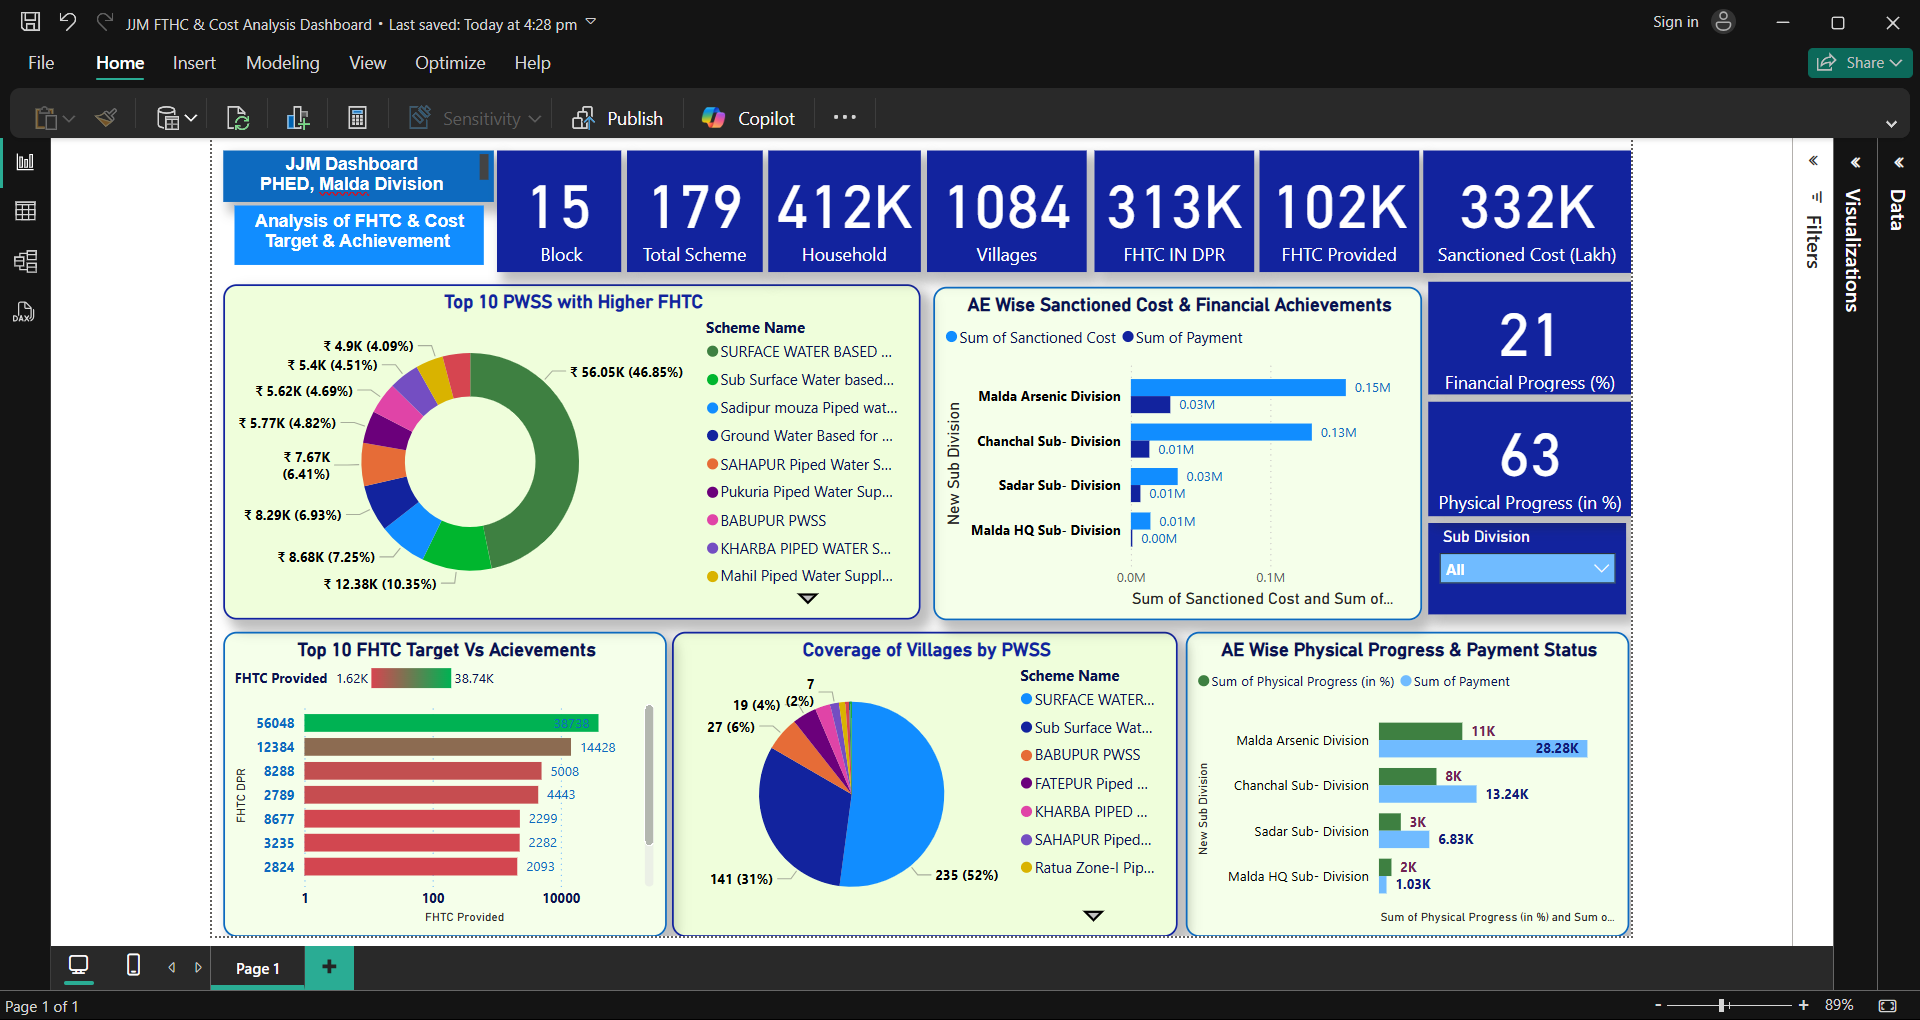

The page's visual inventory and layout, read from the dashboard file:
{"tool":"powerbi","page":{"name":"Page 1","canvas":[1280,720],"ordinal":0},"visuals":[{"type":"donutChart","title":"Top 10 PWSS with Higher FHTC","fields":{"Category":["Sheet1 (2).Scheme Name"],"Y":["Max(Sheet1 (2).FHTC DPR)"]},"box":[10.3,132.4,628.6,302.1],"z":0},{"type":"barChart","title":"Top 10 FHTC Target Vs Acievements","fields":{"Category":["Sheet1 (2).FHTC DPR"],"Y":["Sum(Sheet1 (2).FHTC Provided)"]},"box":[10.3,444.7,399.8,275.1],"z":1000},{"type":"pieChart","title":"Coverage of Villages by PWSS","fields":{"Category":["Sheet1.Scheme Name"],"Y":["Sum(Sheet1 (2).Villages)"]},"box":[415.2,444.7,456.3,275.1],"z":2000},{"type":"textbox","box":[10,11.2,243.8,46],"z":3000},{"type":"card","fields":{"Values":["Count(Sheet1 (2).Block)"]},"box":[257.1,11.6,111.8,109.3],"z":4000},{"type":"card","fields":{"Values":["Count(Sheet1.Scheme Name)"]},"box":[374.1,11.6,122.1,109.3],"z":5000},{"type":"card","fields":{"Values":["Sum(Sheet1 (2).Household)"]},"box":[501.3,11.6,137.5,109.3],"z":6000},{"type":"card","fields":{"Values":["Sum(Sheet1 (2).Villages)"]},"box":[645.3,11.6,144,109.3],"z":7000},{"type":"card","fields":{"Values":["Sum(Sheet1 (2).FHTC DPR)"]},"box":[795.7,11.6,144,109.3],"z":8000},{"type":"card","fields":{"Values":["Sum(Sheet1 (2).FHTC Provided)"]},"box":[944.8,11.6,144,109.3],"z":9000},{"type":"clusteredBarChart","title":"AE Wise Sanctioned Cost & Financial Achievements","fields":{"Y":["Sum(G1- Scheme Physical Progress (R.Sanctioned Cost)","Sum(G1- Scheme Physical Progress (R.Payment)"],"Category":["G1- Scheme Physical Progress (R.New Sub Division"]},"box":[650.4,133.7,440.9,300.8],"z":10000},{"type":"slicer","fields":{"Values":["G1- Scheme Physical Progress (R.New Sub Division"]},"box":[1096.4,347.1,178.7,82.3],"z":11000},{"type":"card","fields":{"Values":["Sum(G1- Scheme Physical Progress (R.Sanctioned Cost)"]},"box":[1092.3,11.6,187.7,110.5],"z":12000},{"type":"card","fields":{"Values":["Avg(G1- Scheme Physical Progress (R.Financial Progress (in %))"]},"box":[1096.4,129.8,183.8,101.5],"z":13000},{"type":"card","fields":{"Values":["Avg(G1- Scheme Physical Progress (R.Physical Progress (in %))"]},"box":[1096.4,237.8,183.8,102.8],"z":14000},{"type":"clusteredBarChart","title":"AE Wise Physical Progress & Payment Status","fields":{"Category":["G1- Scheme Physical Progress (R.New Sub Division"],"Y":["Sum(G1- Scheme Physical Progress (R.Physical Progress (in %))","Sum(G1- Scheme Physical Progress (R.Payment)"]},"box":[877.9,444.7,399.8,275.1],"z":14001},{"type":"textbox","box":[19.9,61,225.2,53.5],"z":14002}]}

Visuals, with their boxes on the page's 1280x720 design canvas (x1, y1, x2, y2). These are canvas units, not pixel positions in the 1920x1020 screenshot, which may show the page scaled, cropped or inside an application window:
"Top 10 PWSS with Higher FHTC" donutChart: BBox(10, 132, 639, 434)
"Top 10 FHTC Target Vs Acievements" barChart: BBox(10, 445, 410, 720)
"Coverage of Villages by PWSS" pieChart: BBox(415, 445, 872, 720)
textbox: BBox(10, 11, 254, 57)
card - Count(Sheet1 (2).Block): BBox(257, 12, 369, 121)
card - Count(Sheet1.Scheme Name): BBox(374, 12, 496, 121)
card - Sum(Sheet1 (2).Household): BBox(501, 12, 639, 121)
card - Sum(Sheet1 (2).Villages): BBox(645, 12, 789, 121)
card - Sum(Sheet1 (2).FHTC DPR): BBox(796, 12, 940, 121)
card - Sum(Sheet1 (2).FHTC Provided): BBox(945, 12, 1089, 121)
"AE Wise Sanctioned Cost & Financial Achievements" clusteredBarChart: BBox(650, 134, 1091, 434)
slicer - G1- Scheme Physical Progress (R.New Sub Division: BBox(1096, 347, 1275, 429)
card - Sum(G1- Scheme Physical Progress (R.Sanctioned Cost): BBox(1092, 12, 1280, 122)
card - Avg(G1- Scheme Physical Progress (R.Financial Progress (in %)): BBox(1096, 130, 1280, 231)
card - Avg(G1- Scheme Physical Progress (R.Physical Progress (in %)): BBox(1096, 238, 1280, 341)
"AE Wise Physical Progress & Payment Status" clusteredBarChart: BBox(878, 445, 1278, 720)
textbox: BBox(20, 61, 245, 114)
